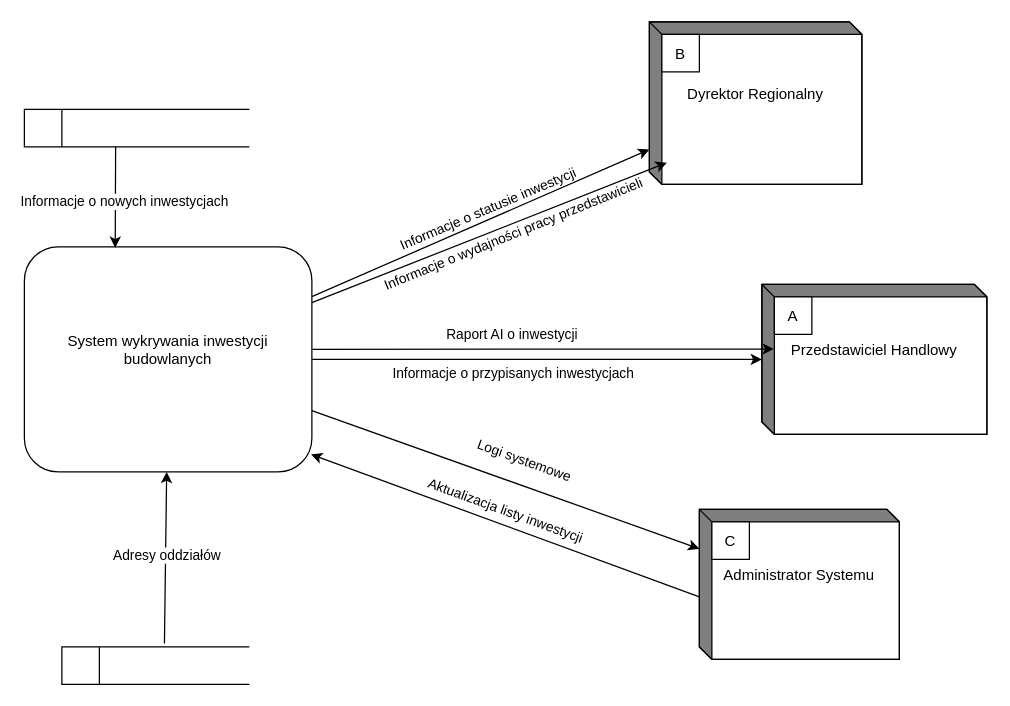
The diagram is 1010 pixels wide and 706 high, and some of its shapes have lost their labels. The shapes that lost their labels are listed below. From the top down, each one's centre as x and y in pixels, then its label:
At (136,127): "D1 Krajowa baza inwestycji".
At (155,665): "D2 Lista oddziałów firmy".
